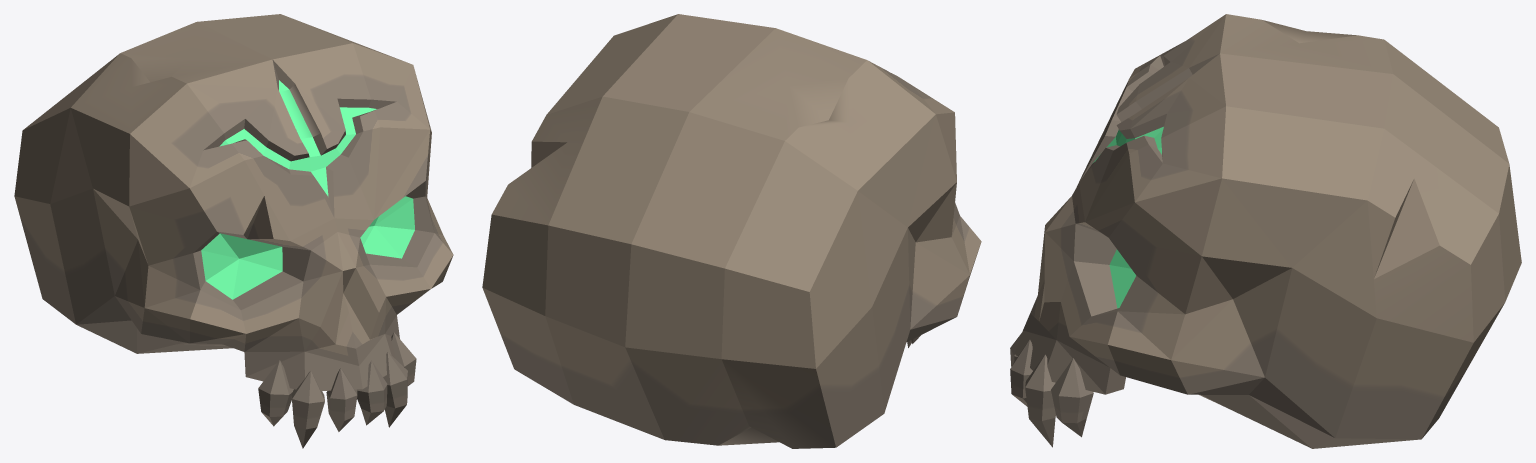
The model's file is SM_Prop_Skull_05.fbx.
The picture shows the model from 3 angles, left to right: view 1: azimuth 30°, elevation 25°; view 2: azimuth 150°, elevation 25°; view 3: azimuth 270°, elevation 25°; orthographic projection. The views are drawn at different scales.
Visible parts, largest first — view 1: SM_Prop_Skull_05; view 2: SM_Prop_Skull_05; view 3: SM_Prop_Skull_05.
Boxes of the visible parts, x1=… form: SM_Prop_Skull_05: x1=14, y1=14, x2=453, y2=448; SM_Prop_Skull_05: x1=482, y1=14, x2=981, y2=448; SM_Prop_Skull_05: x1=1010, y1=14, x2=1521, y2=448.
Size of the model in its own units: 21.47 by 21.74 by 27.22.
